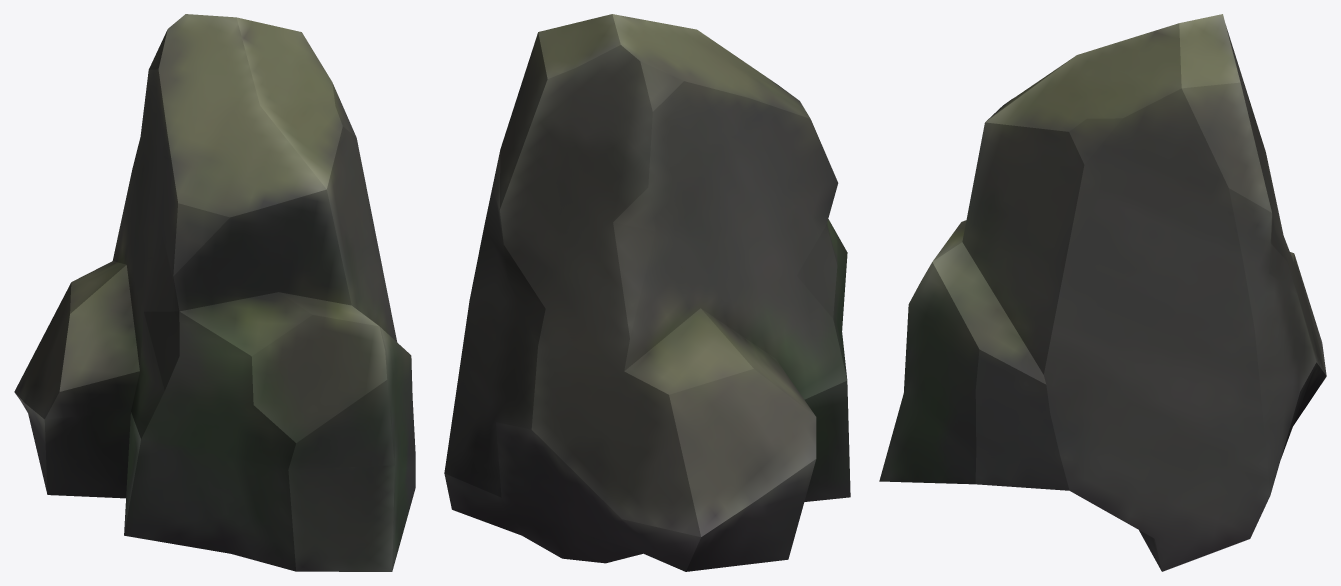
The model's file is rock_1.glb.
3 views of the same model, side by side, from view 1: azimuth 30°, elevation 25°; view 2: azimuth 150°, elevation 25°; view 3: azimuth 270°, elevation 25° (orthographic). The views are drawn at different scales.
Parts seen in each view (by area): view 1: Rock_1; view 2: Rock_1; view 3: Rock_1.
Part boxes in pixels (x1,y1,x2,y2): Rock_1: (14, 14, 415, 571); Rock_1: (444, 14, 850, 571); Rock_1: (879, 14, 1326, 571).
Size of the model in its own units: 0.7107 by 1.08 by 0.8874.
1 material, 1 textured.
